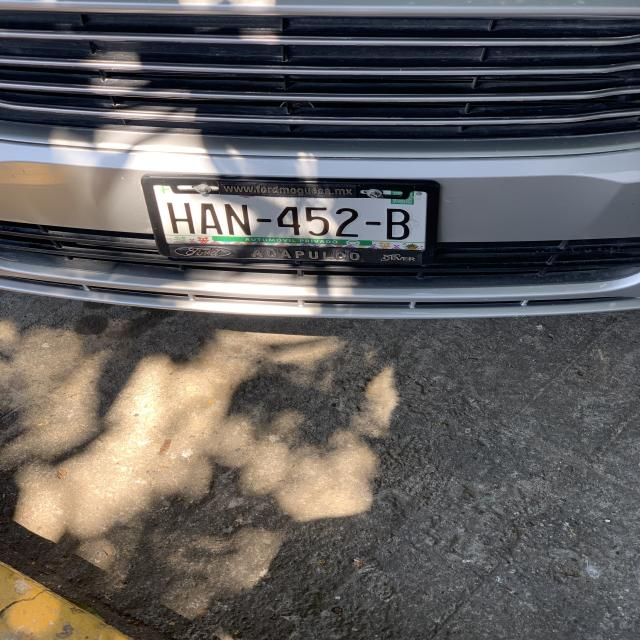placa: (151, 199, 433, 242)
